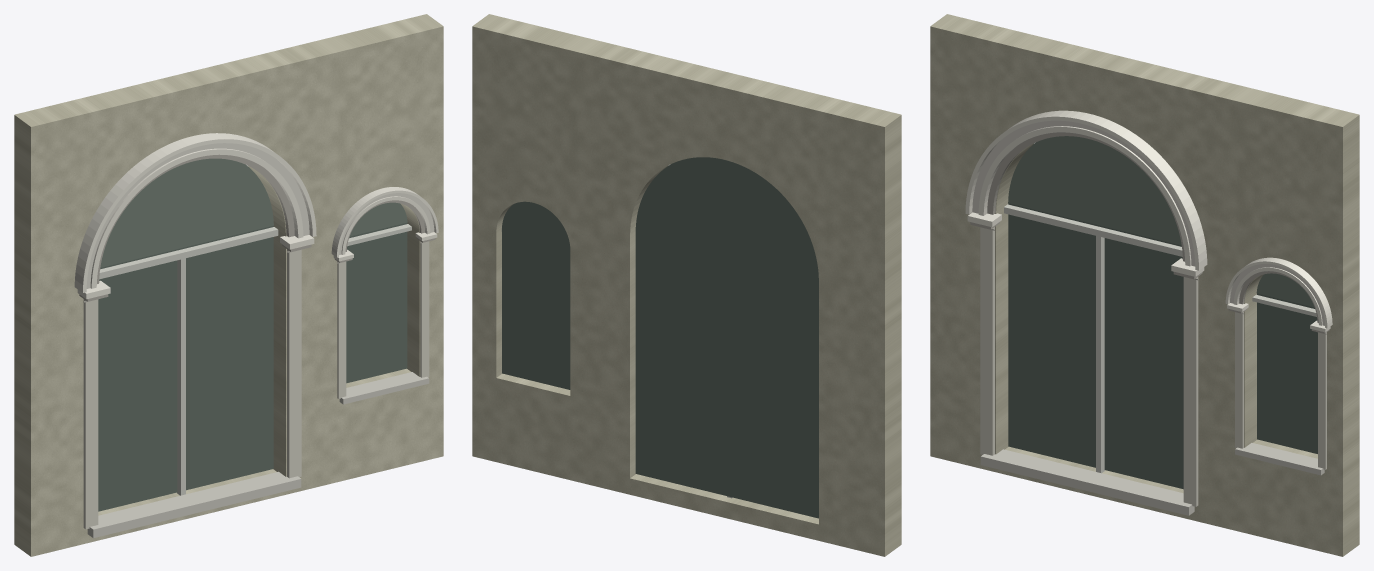
Rendered from yongjia-17-round-headed-window-near.glb.
The picture shows the model from 3 angles, left to right: view 1: azimuth 30°, elevation 25°; view 2: azimuth 150°, elevation 25°; view 3: azimuth 330°, elevation 25°; orthographic projection.
Parts seen in each view (by area): view 1: 永嘉路17号住宅大弧窗与分层券脚; view 2: 永嘉路17号住宅大弧窗与分层券脚; view 3: 永嘉路17号住宅大弧窗与分层券脚.
Boxes of the visible parts, x1=… form: 永嘉路17号住宅大弧窗与分层券脚: x1=14, y1=14, x2=443, y2=556; 永嘉路17号住宅大弧窗与分层券脚: x1=472, y1=14, x2=901, y2=556; 永嘉路17号住宅大弧窗与分层券脚: x1=930, y1=14, x2=1359, y2=556.
Bounding box in the file's own units: 4.37 × 4.35 × 0.473.
10 materials, 1 textured.
